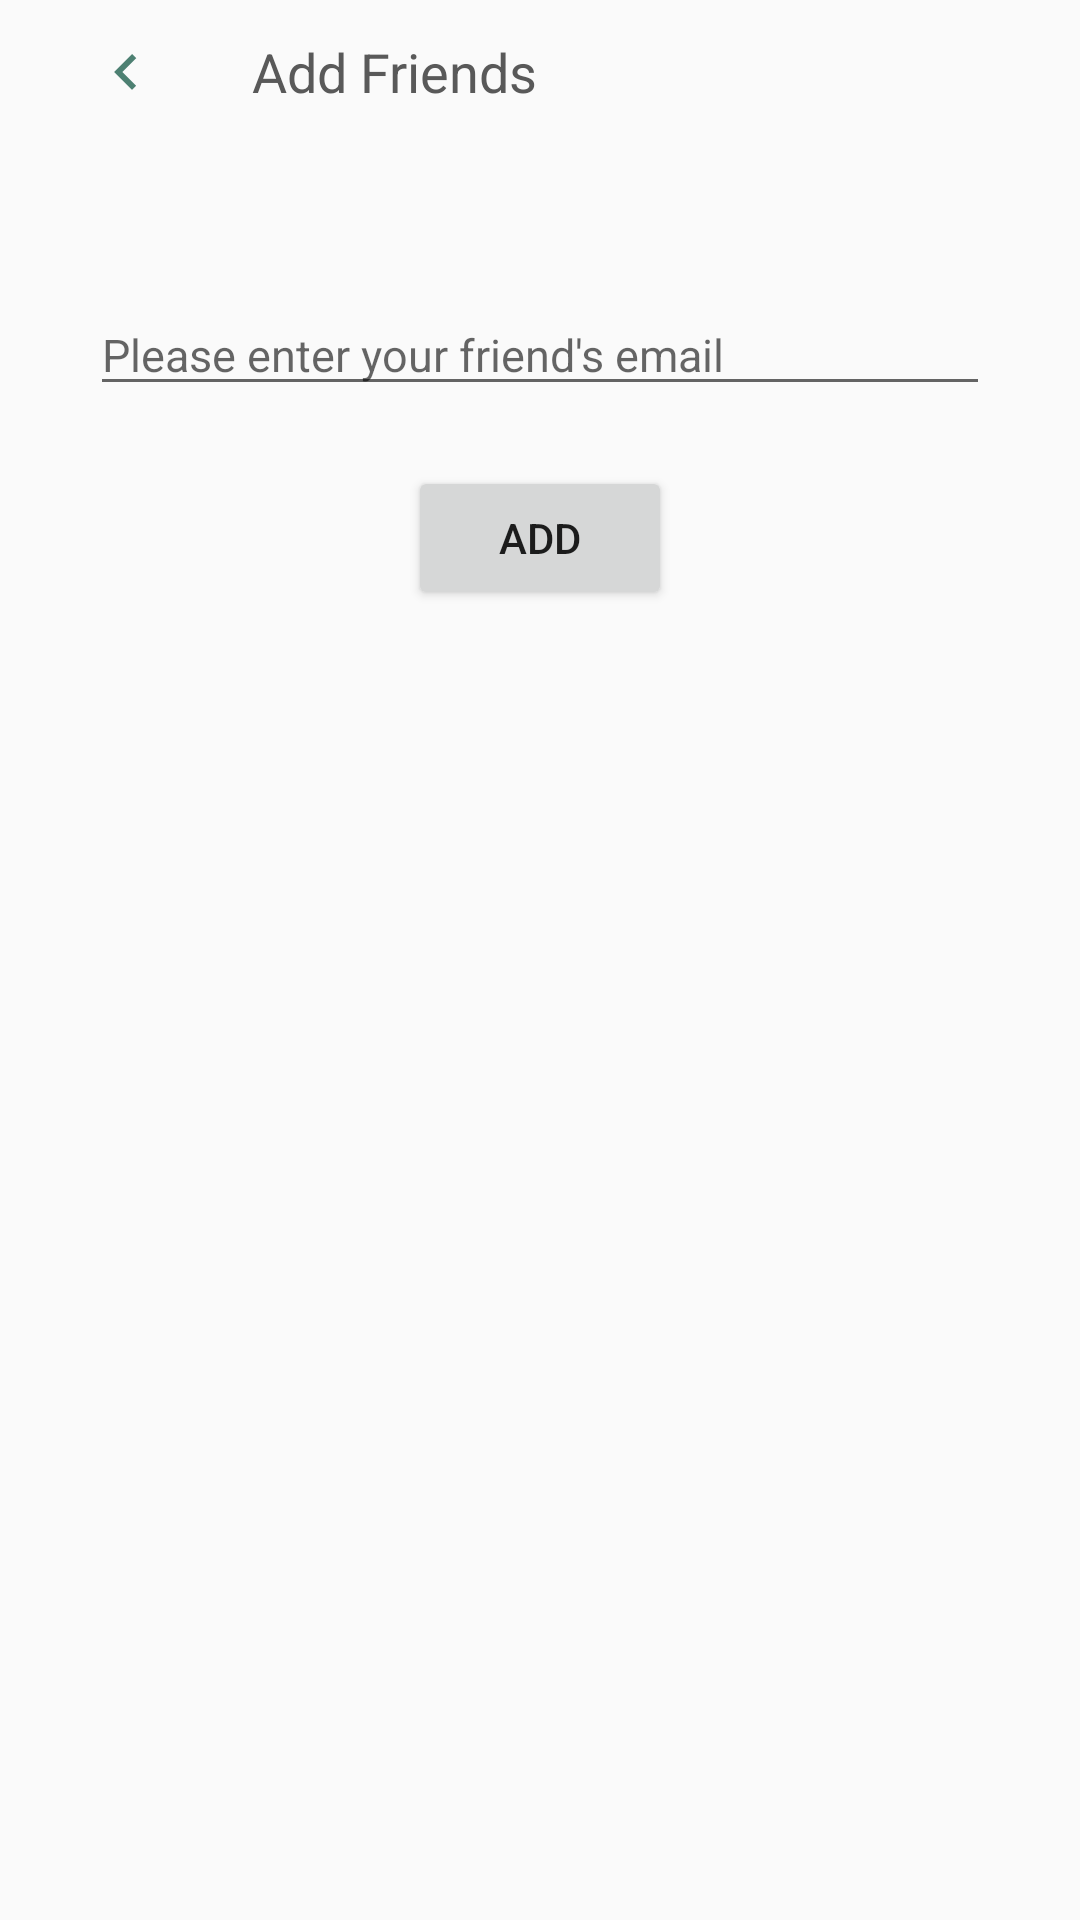

Icons on this 1080×1920 Android screen, each with its box as (x1, y1, x2, y2):
keyboard arrow left: (114, 54, 136, 90)
